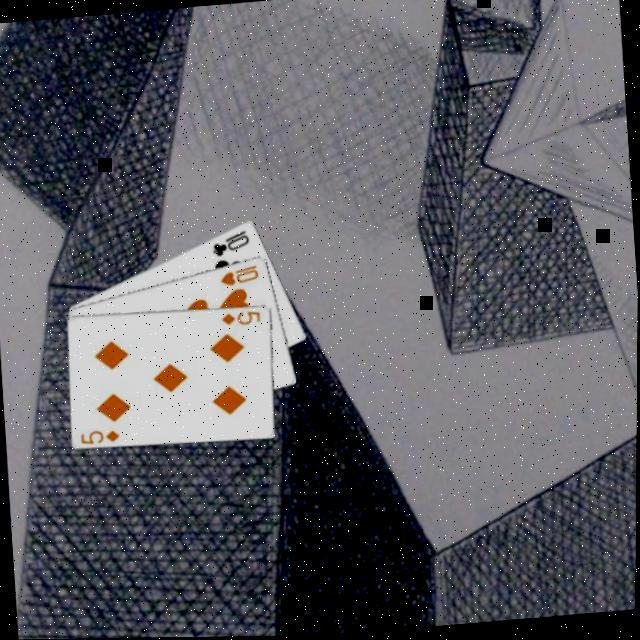10C: (208, 227, 253, 261)
10H: (217, 262, 263, 290)
5D: (220, 308, 264, 331), (79, 426, 124, 448)
